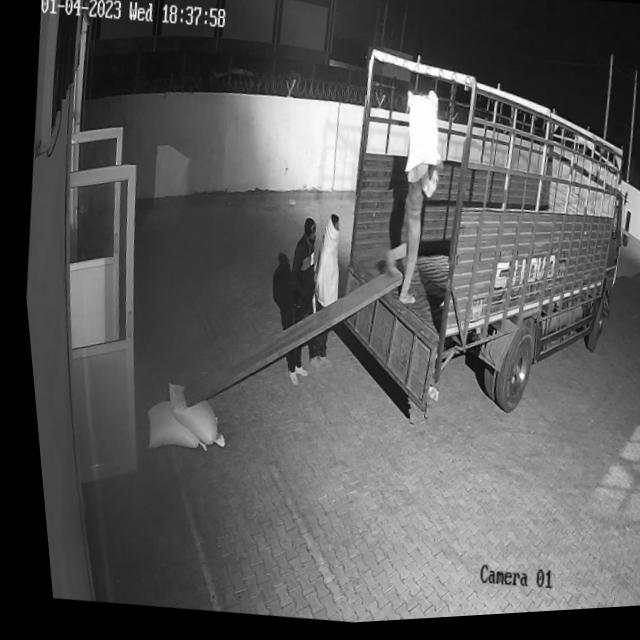sack: (153, 381, 223, 451), (394, 92, 446, 185), (133, 398, 204, 458)
